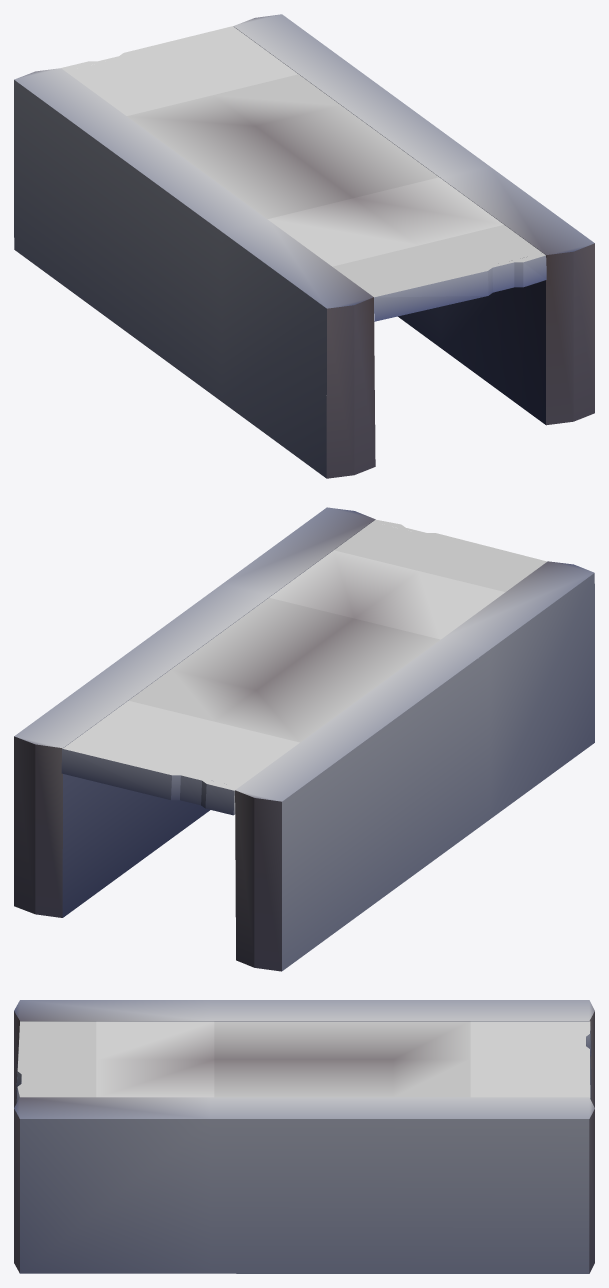
Rendered from FloatingWoodenPlatform.gltf.
The picture shows the model from 3 angles, top to bottom: view 1: azimuth 30°, elevation 25°; view 2: azimuth 150°, elevation 25°; view 3: azimuth 270°, elevation 25°; orthographic projection. The views are drawn at different scales.
Parts seen in each view (by area): view 1: FloatingWoodenPlatformMesh; view 2: FloatingWoodenPlatformMesh; view 3: FloatingWoodenPlatformMesh.
Boxes of the visible parts, <box> form: FloatingWoodenPlatformMesh: <box>14,14,594,478</box>; FloatingWoodenPlatformMesh: <box>14,507,594,971</box>; FloatingWoodenPlatformMesh: <box>14,1000,594,1273</box>.
Bounding box in the file's own units: 4.9 × 2.96 × 10.09.
